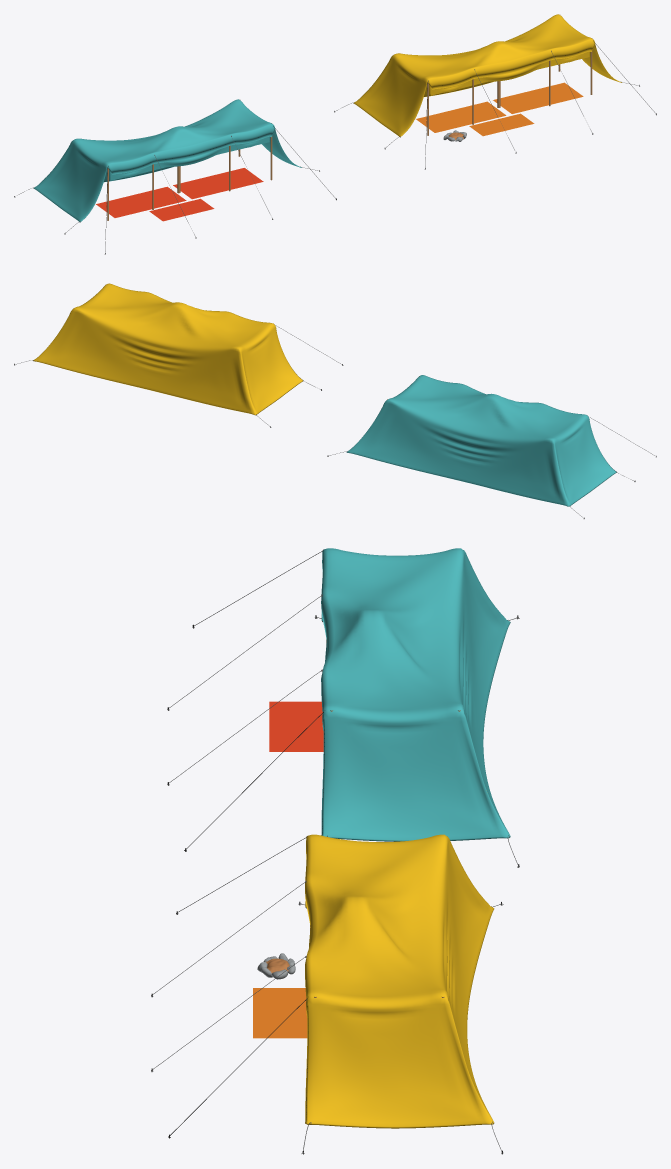
File: 3_tent.glb
3 views of the same model, one above another, from view 1: azimuth 30°, elevation 25°; view 2: azimuth 150°, elevation 25°; view 3: azimuth 270°, elevation 25° (orthographic). The views are drawn at different scales.
Visible parts, largest first — view 1: Cube.015, Cube, Plane.001, Plane.008, Plane.002, Plane.007, Plane.009, Plane, Plane.003, Plane.006; view 2: Cube.015, Cube; view 3: Cube, Cube.015, Plane.006, Plane.003.
Boxes of the visible parts, bbox=[...] form: Cube.015: bbox=[33, 99, 301, 222]; Cube: bbox=[353, 14, 621, 136]; Plane.001: bbox=[416, 101, 506, 132]; Plane.008: bbox=[96, 186, 186, 217]; Plane.002: bbox=[493, 82, 583, 113]; Plane.007: bbox=[173, 168, 263, 199]; Plane.009: bbox=[110, 136, 269, 180]; Plane: bbox=[430, 51, 589, 95]; Plane.003: bbox=[469, 113, 534, 136]; Plane.006: bbox=[149, 198, 214, 221]; Cube.015: bbox=[346, 375, 616, 506]; Cube: bbox=[33, 283, 302, 415]; Cube: bbox=[305, 834, 494, 1128]; Cube.015: bbox=[321, 548, 510, 841]; Plane.006: bbox=[269, 701, 323, 751]; Plane.003: bbox=[253, 988, 307, 1038].
Size of the model in its own units: 16.63 by 2.12 by 4.64.
